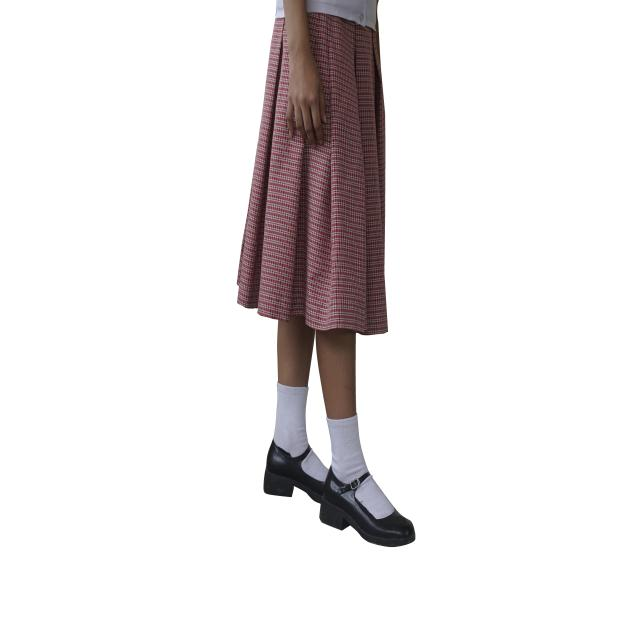shoes: (264, 441, 415, 547)
skirt: (237, 13, 388, 335)
